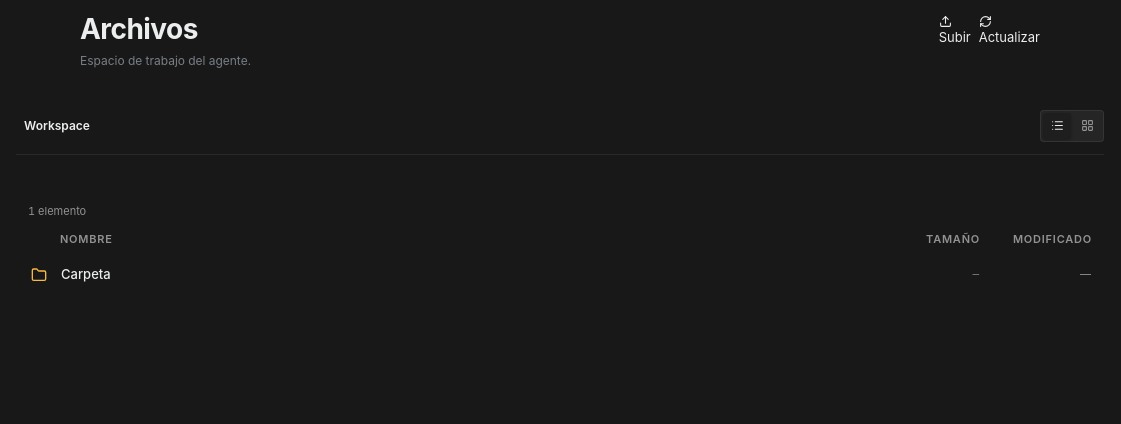
Test: stale browse cannot replace the folder selected meanwhile
This screenshot has width=1121, height=424.
Click the button "Carpeta — —".
click(86, 274)  # box 31,266 -> 1091,283
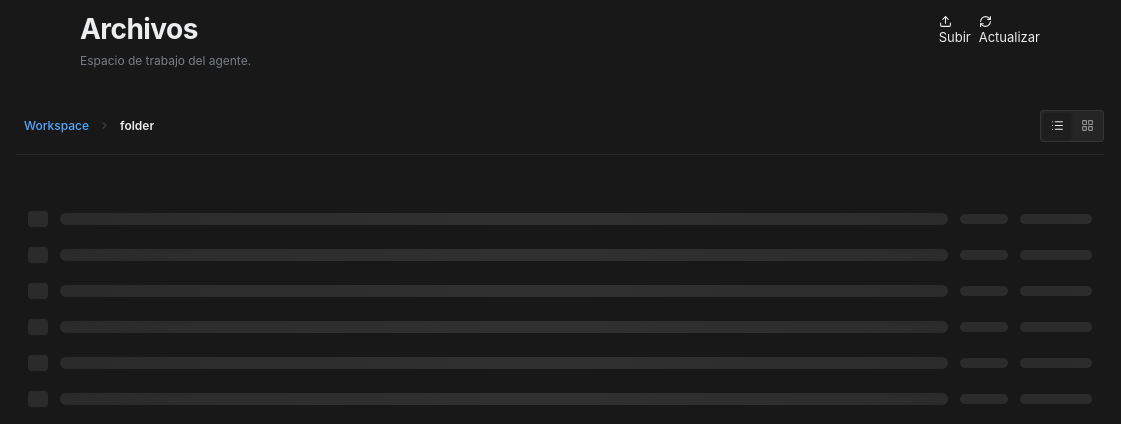
Click the button "Workspace".
click(56, 126)  # box 16,114 -> 97,137
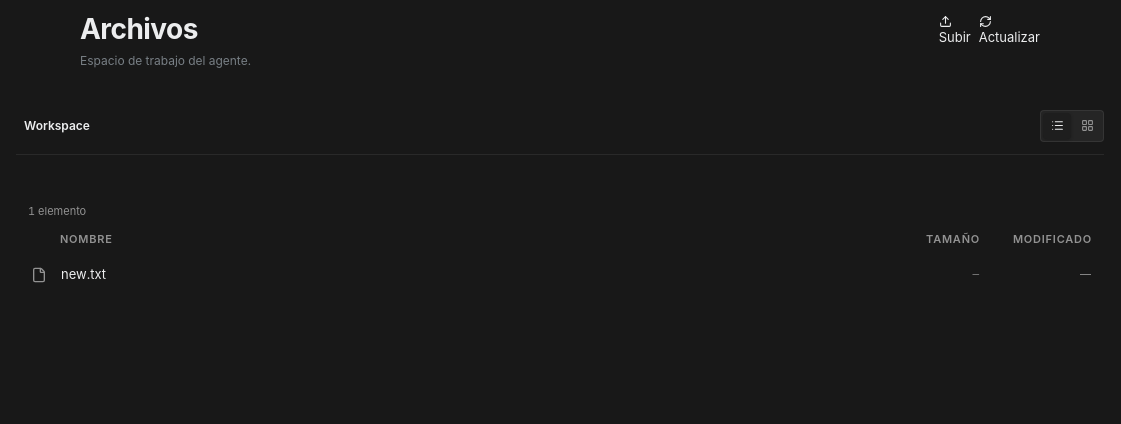
Now the text "new.txt" is shown, box 61,266 -> 106,282
